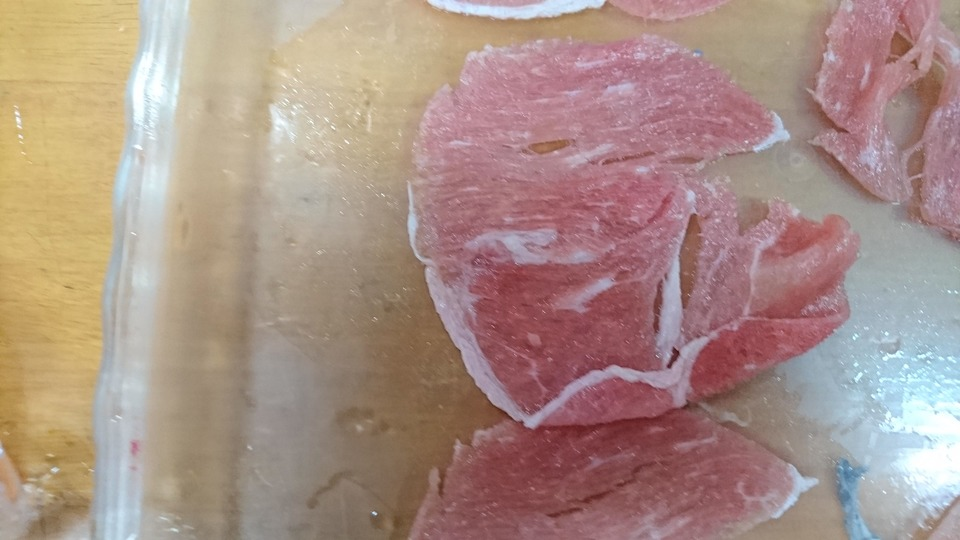restructured meat: (377, 43, 824, 401), (414, 404, 818, 532), (819, 10, 960, 241)
